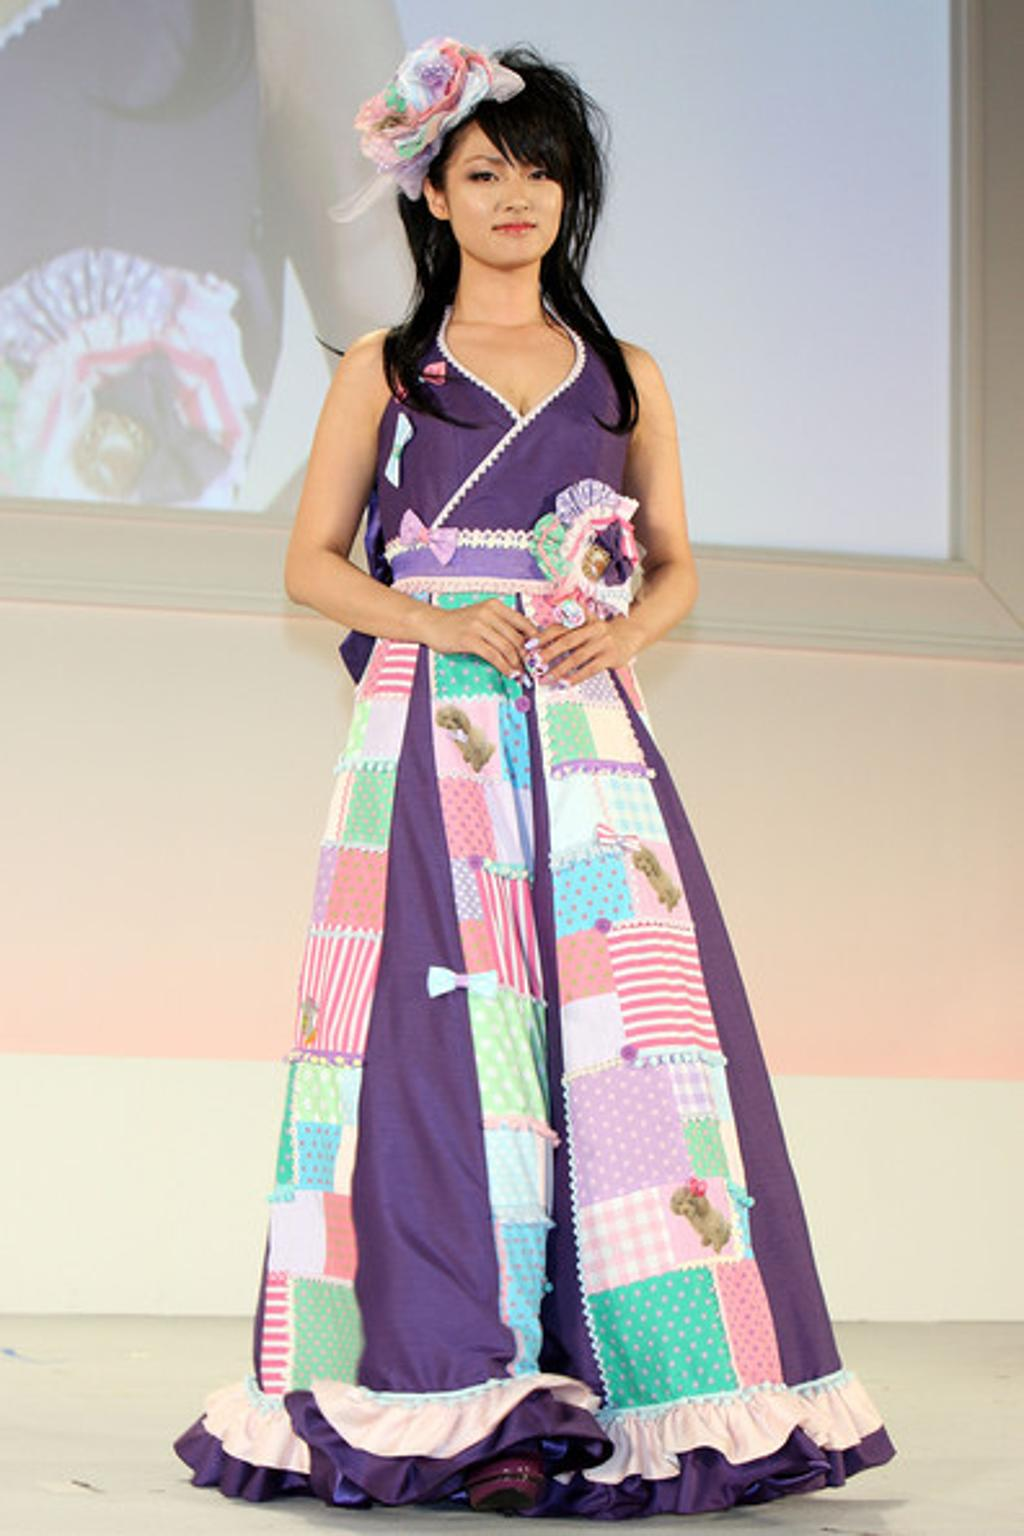face: (441, 87, 570, 261)
